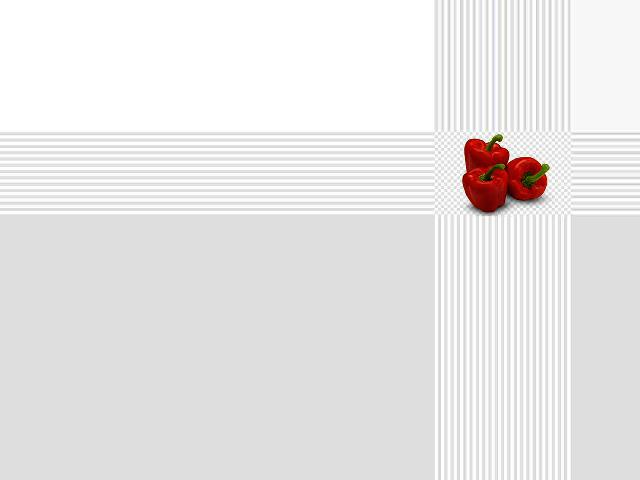bell_pepper: (501, 151, 552, 204)
